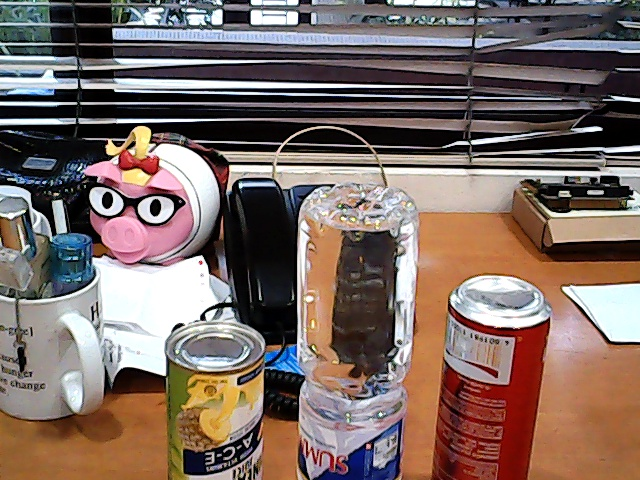Cola: (432, 268, 555, 480)
Pine Juice: (148, 306, 277, 480)
Summit Water: (283, 163, 429, 480)
